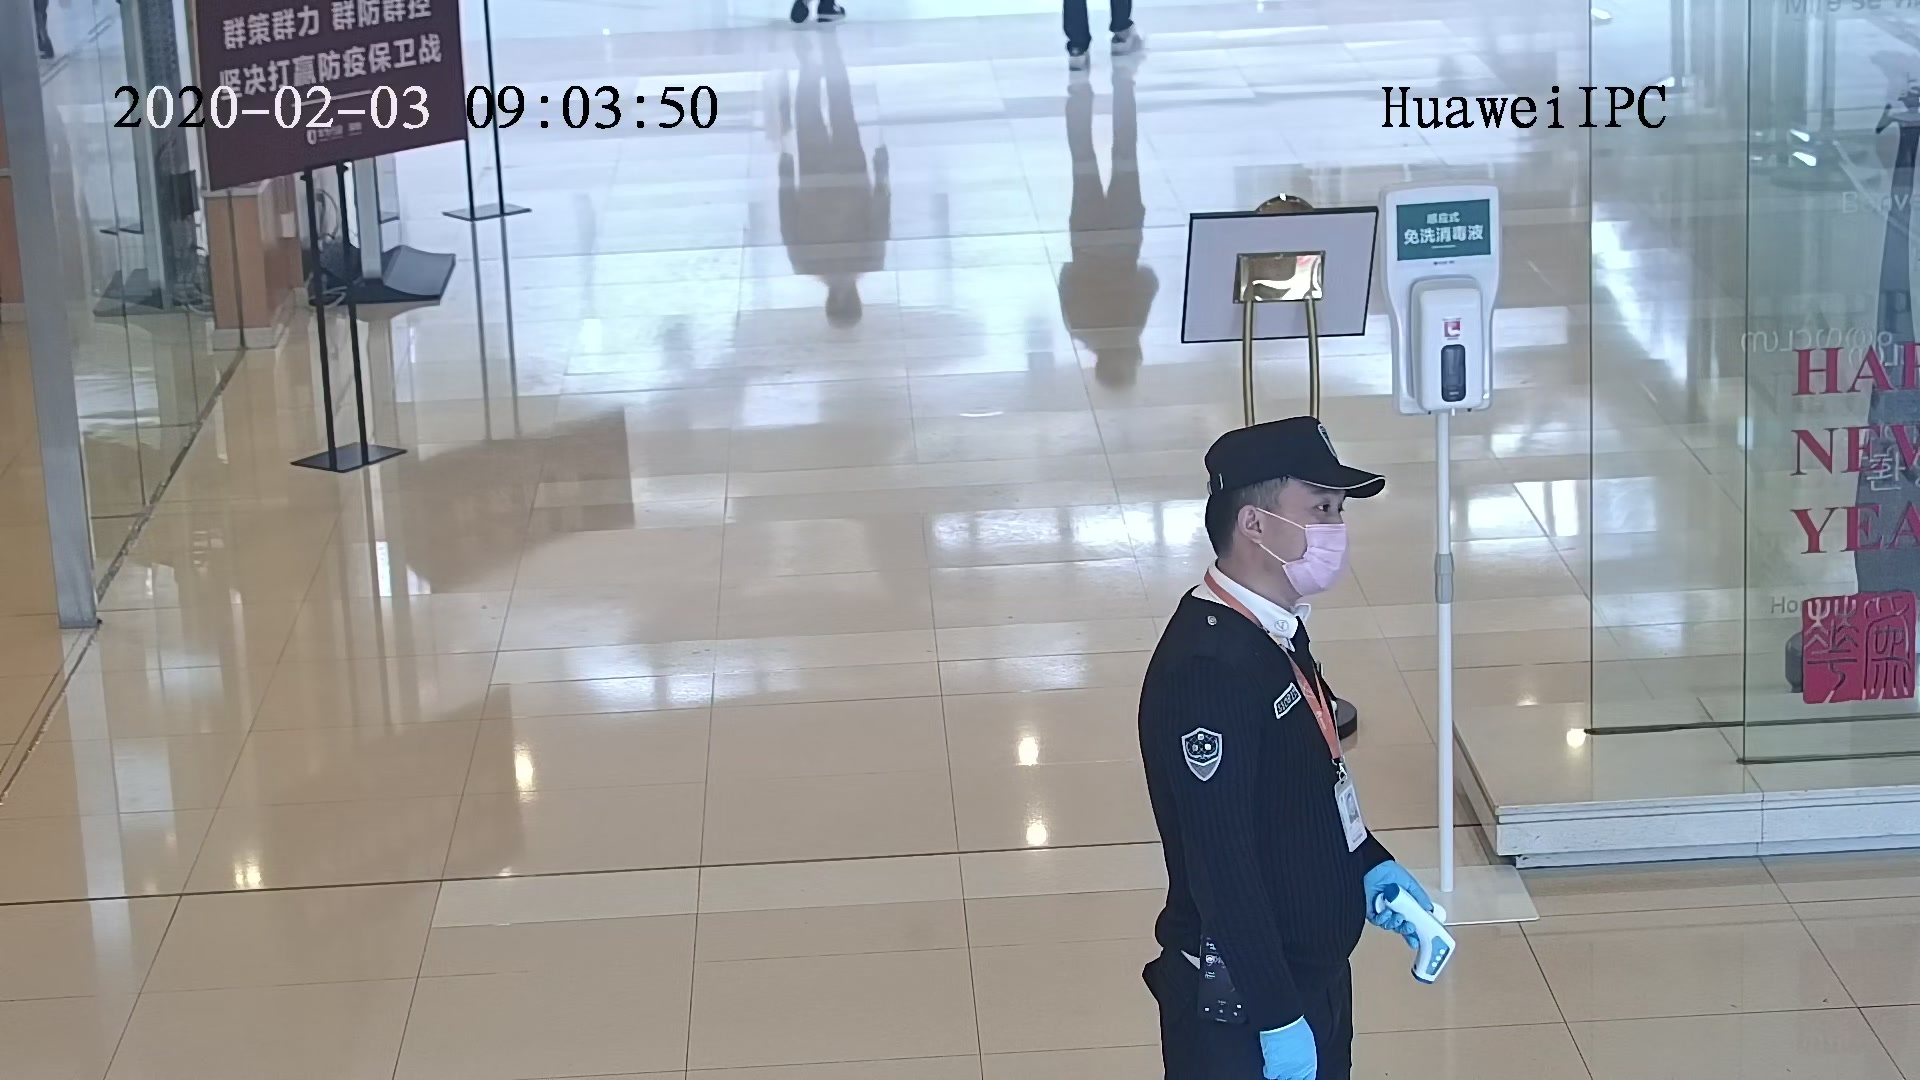face: (1268, 493, 1366, 605)
mask: (1278, 522, 1354, 593)
person: (1145, 417, 1378, 715)
